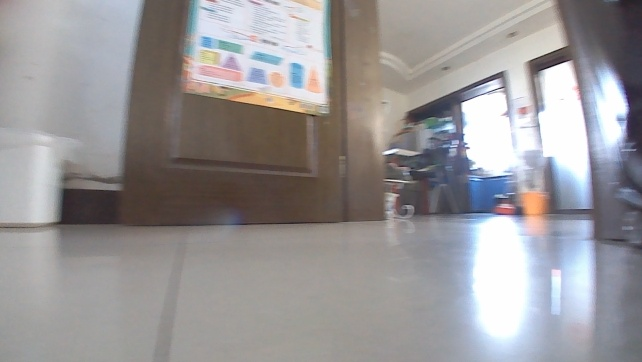door_anno: (114, 0, 376, 234)
